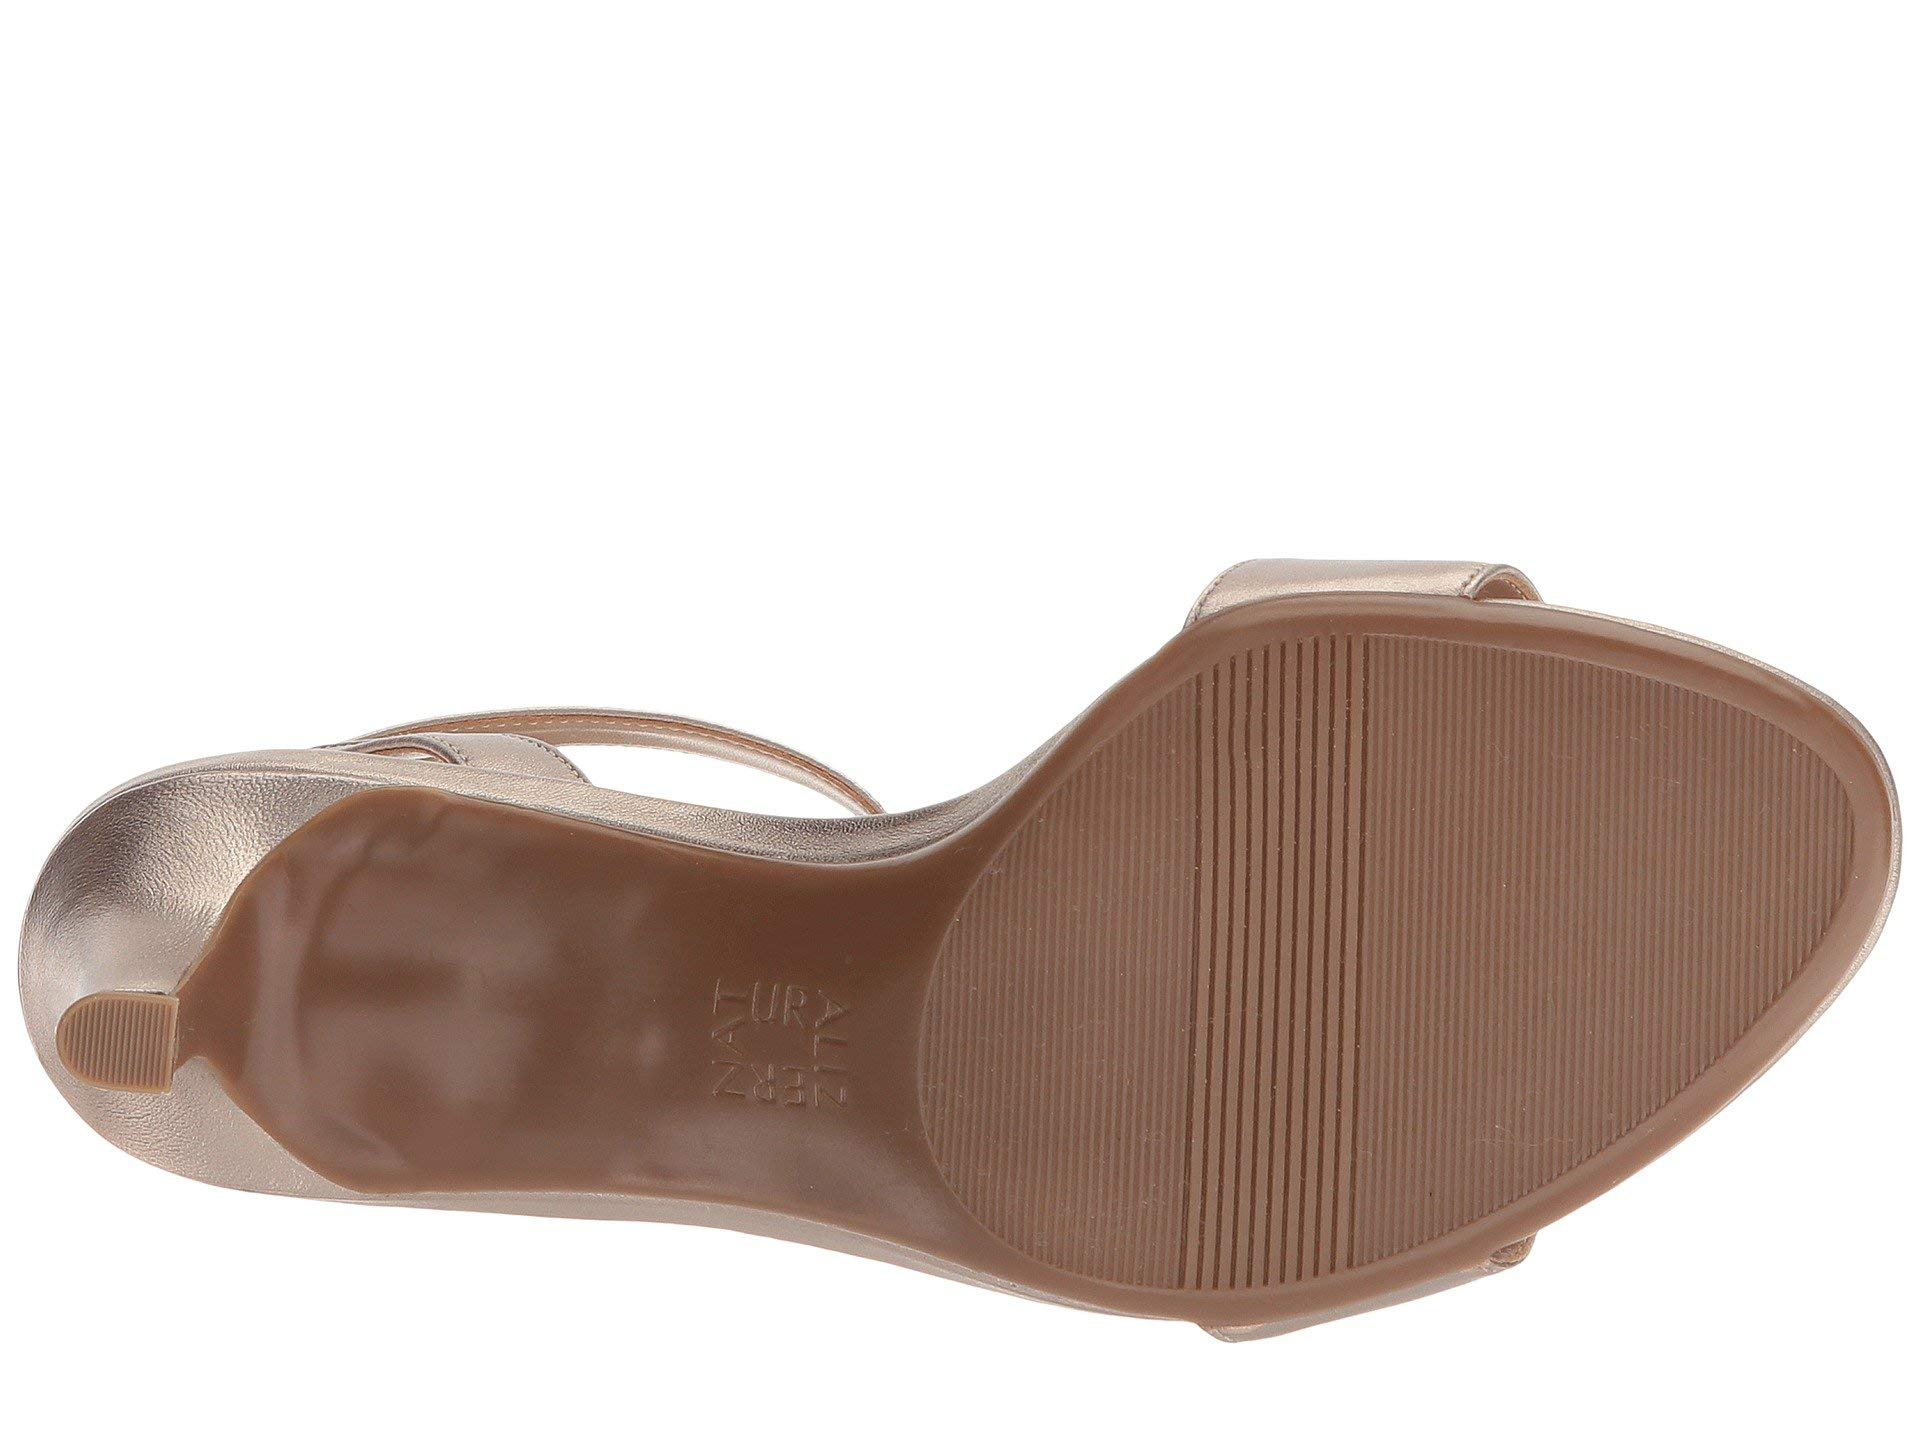exclude: (307, 669, 887, 1310)
line: (1185, 647, 1352, 1236), (1486, 743, 1677, 959), (82, 1016, 153, 1068)
